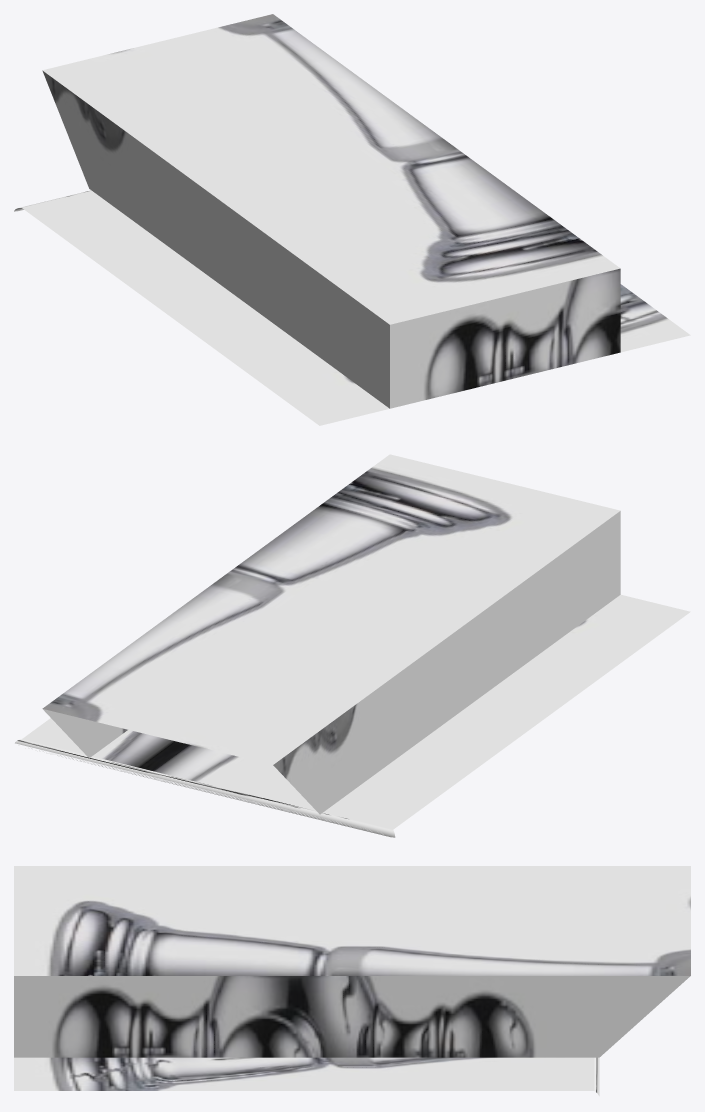
3 renders of one model, top to bottom at view 1: azimuth 30°, elevation 25°; view 2: azimuth 150°, elevation 25°; view 3: azimuth 270°, elevation 25°, orthographic. The views are drawn at different scales.
Size of the model in its own units: 0.4068 by 0.091 by 0.6425.
